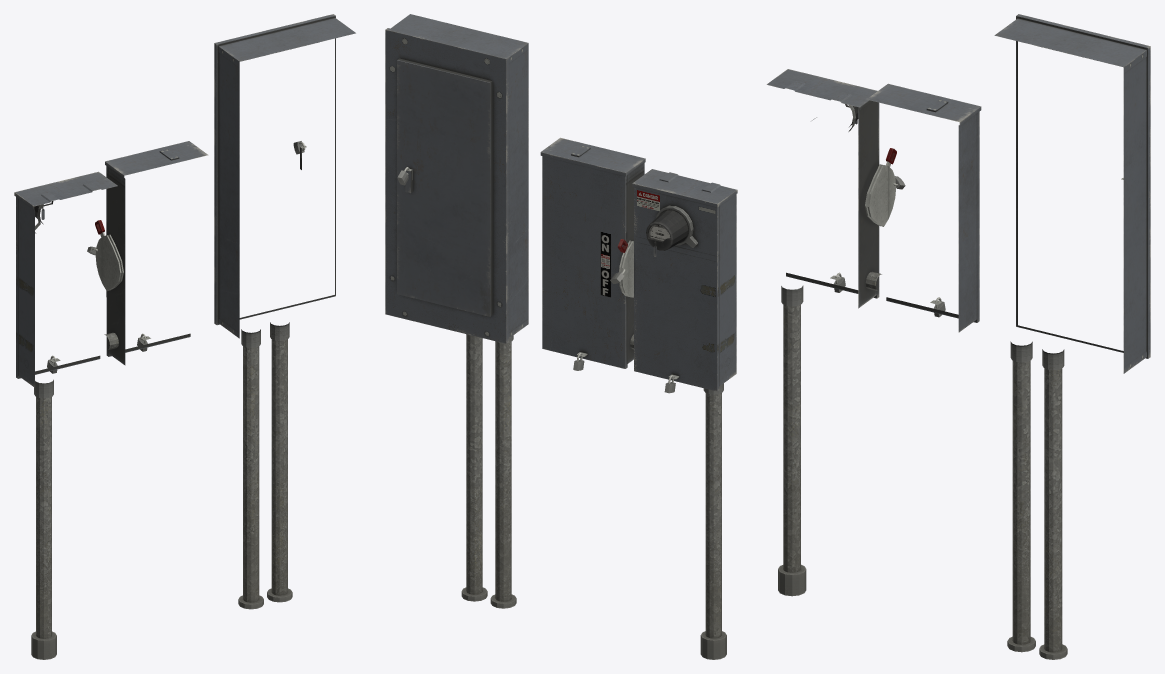
Rendered from electrical_box.glb.
3 renders of one model, left to right at view 1: azimuth 30°, elevation 25°; view 2: azimuth 150°, elevation 25°; view 3: azimuth 330°, elevation 25°, orthographic. The views are drawn at different scales.
Parts seen in each view (by area): view 1: world; view 2: world; view 3: world.
Part boxes in pixels (left/top/right/bottom): world: left=14, top=14, right=355, bottom=659; world: left=385, top=14, right=737, bottom=659; world: left=766, top=14, right=1150, bottom=659.
Bounding box in the file's own units: 39.32 × 64.3 × 7.67.
1 material, 1 textured.
